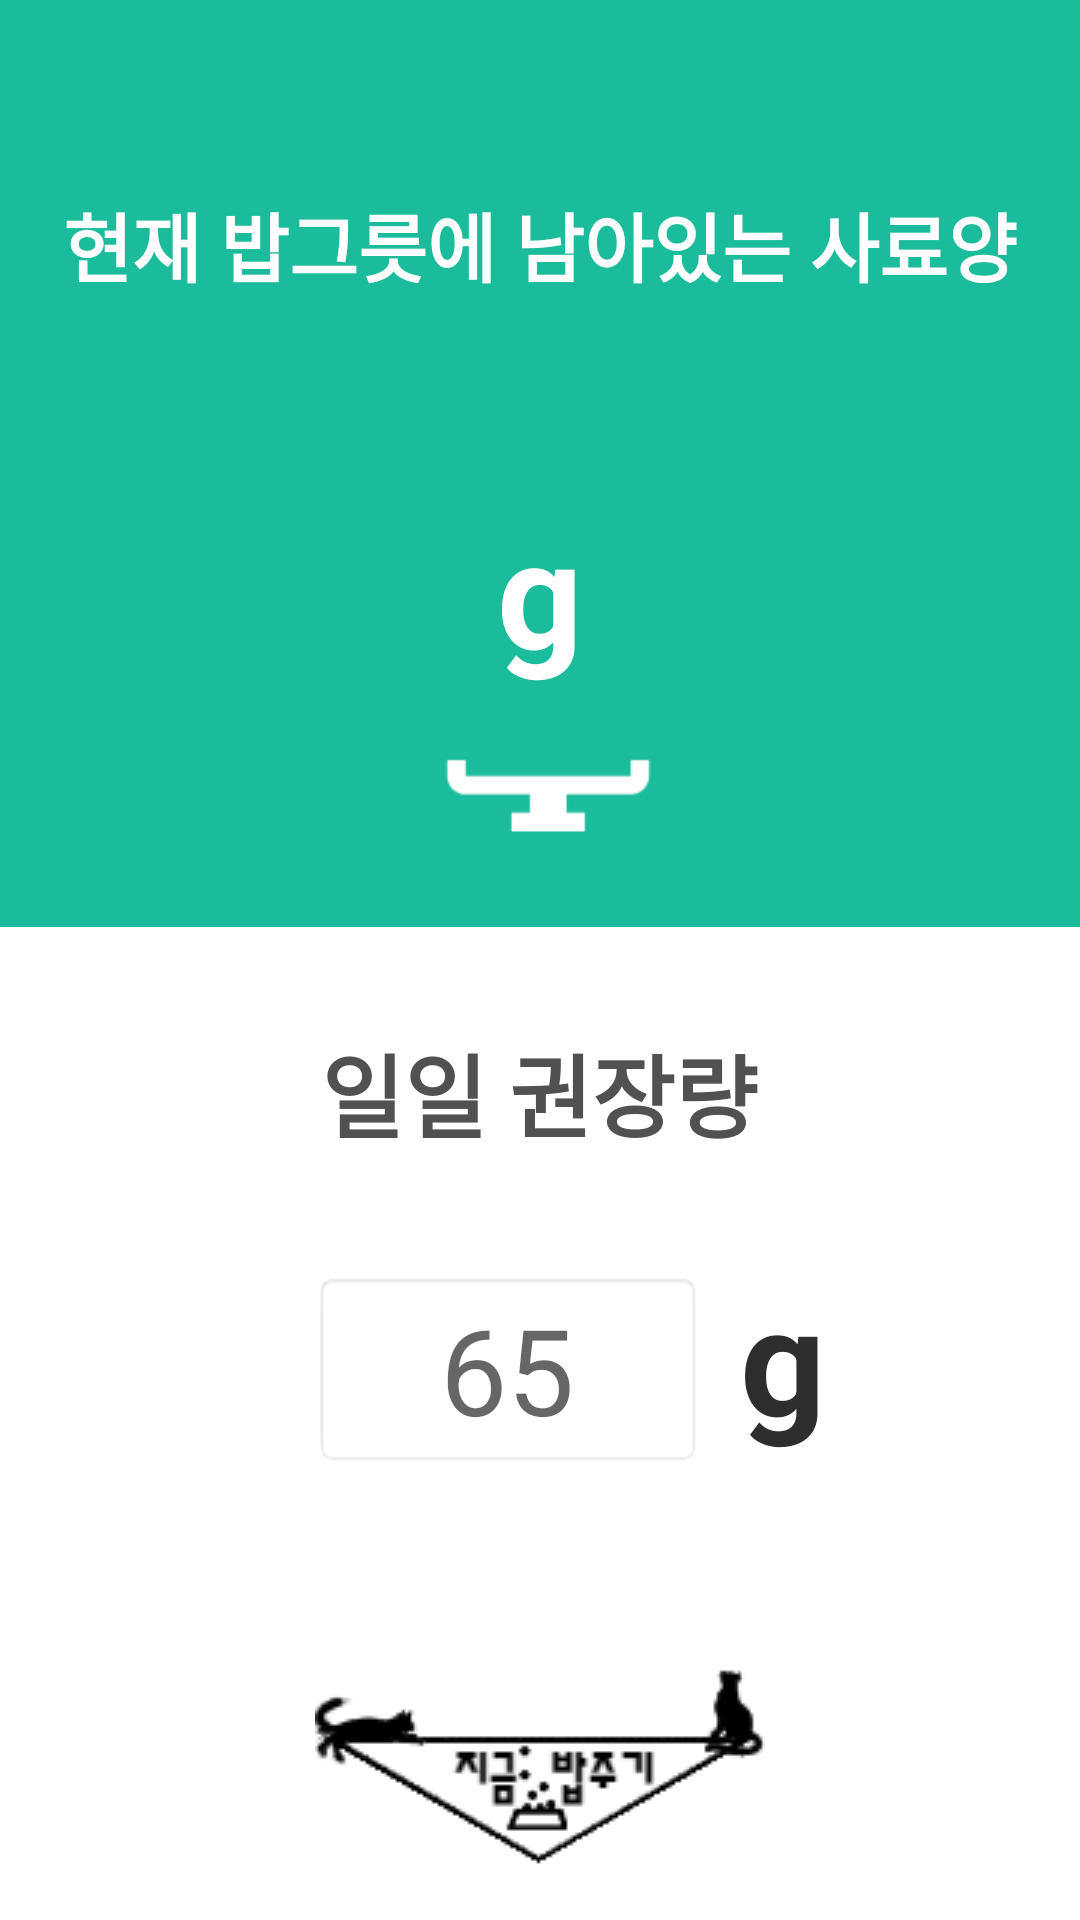

Where to tap for icons on this 1080 × 1920 app screen, as point (x, y):
bowl: point (548, 795)
